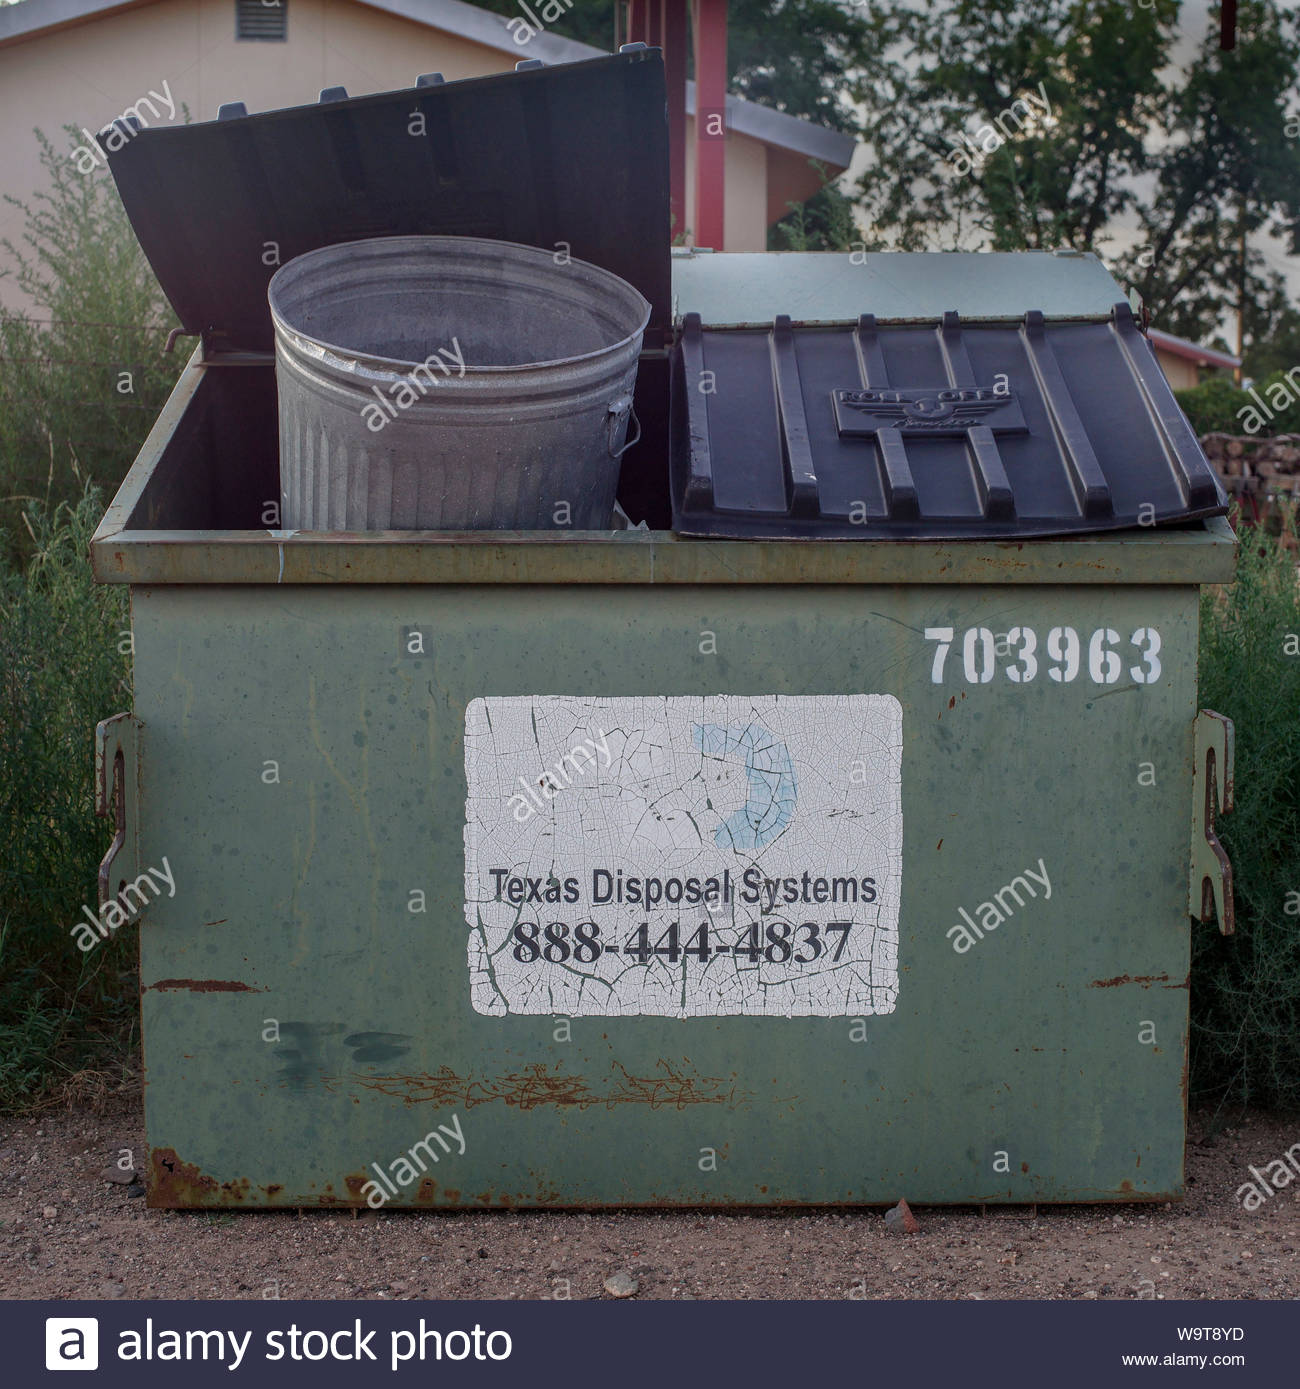Dumpster: (98, 33, 1257, 1222)
